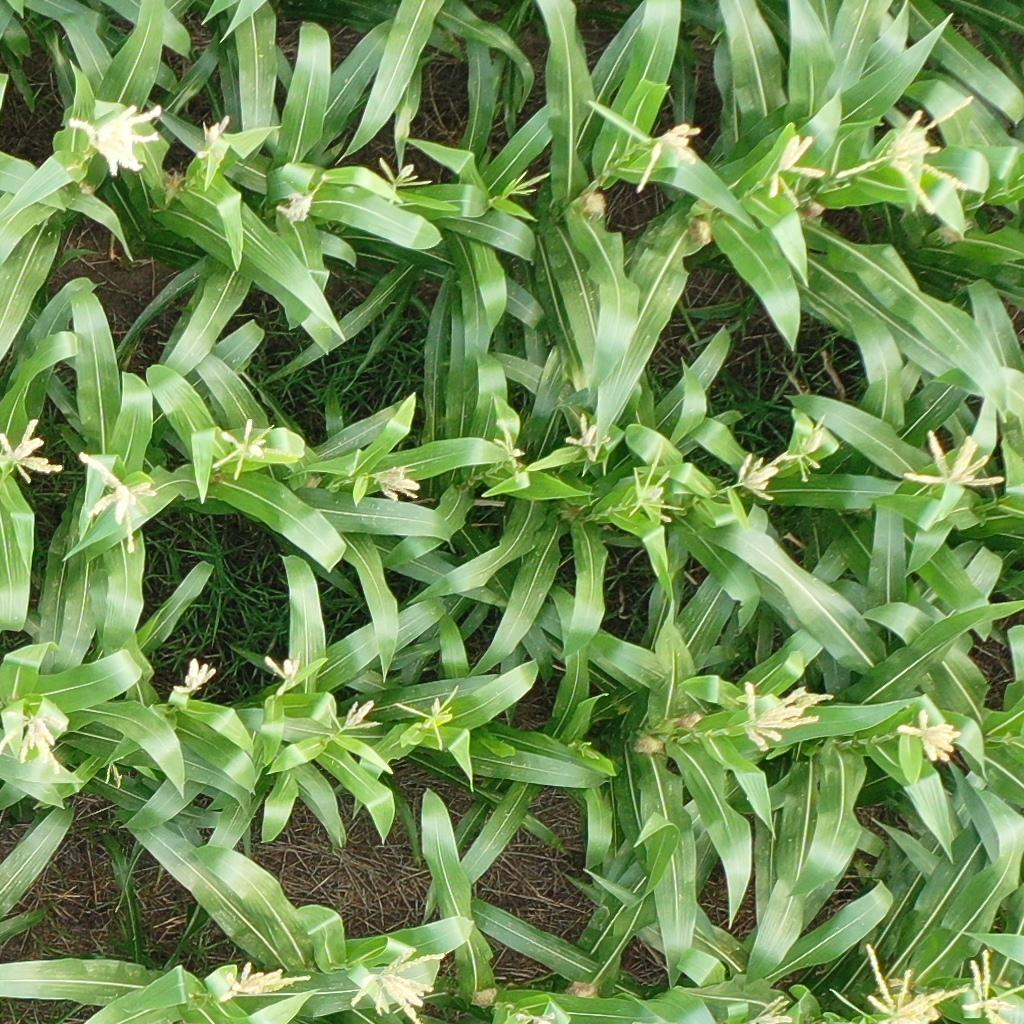Tassel: (834, 93, 982, 216), (76, 450, 158, 556), (860, 945, 968, 1024), (62, 102, 163, 179), (736, 678, 836, 755), (349, 947, 445, 1024), (901, 428, 1007, 492), (621, 438, 684, 522), (213, 417, 297, 480), (636, 120, 699, 195), (963, 947, 1024, 1024), (392, 688, 461, 753), (766, 131, 825, 207), (1, 416, 65, 485), (219, 962, 314, 1006), (1, 711, 66, 769), (898, 708, 962, 763), (780, 418, 831, 480), (730, 451, 792, 501), (562, 412, 614, 464), (321, 695, 380, 734), (367, 464, 423, 504), (489, 424, 528, 477), (375, 154, 431, 190), (173, 657, 218, 697), (498, 169, 552, 201), (263, 654, 302, 695), (200, 116, 233, 164), (746, 993, 795, 1024), (277, 186, 318, 223), (102, 753, 127, 786), (577, 740, 601, 761), (516, 1012, 557, 1024)
